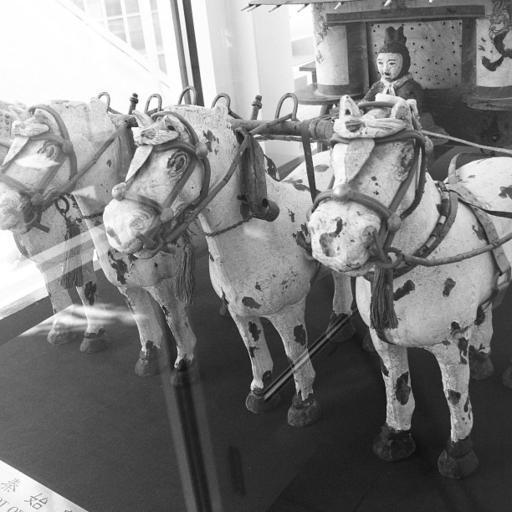horse: (99, 101, 374, 430), (308, 96, 512, 480), (0, 96, 211, 390), (0, 98, 101, 362)
